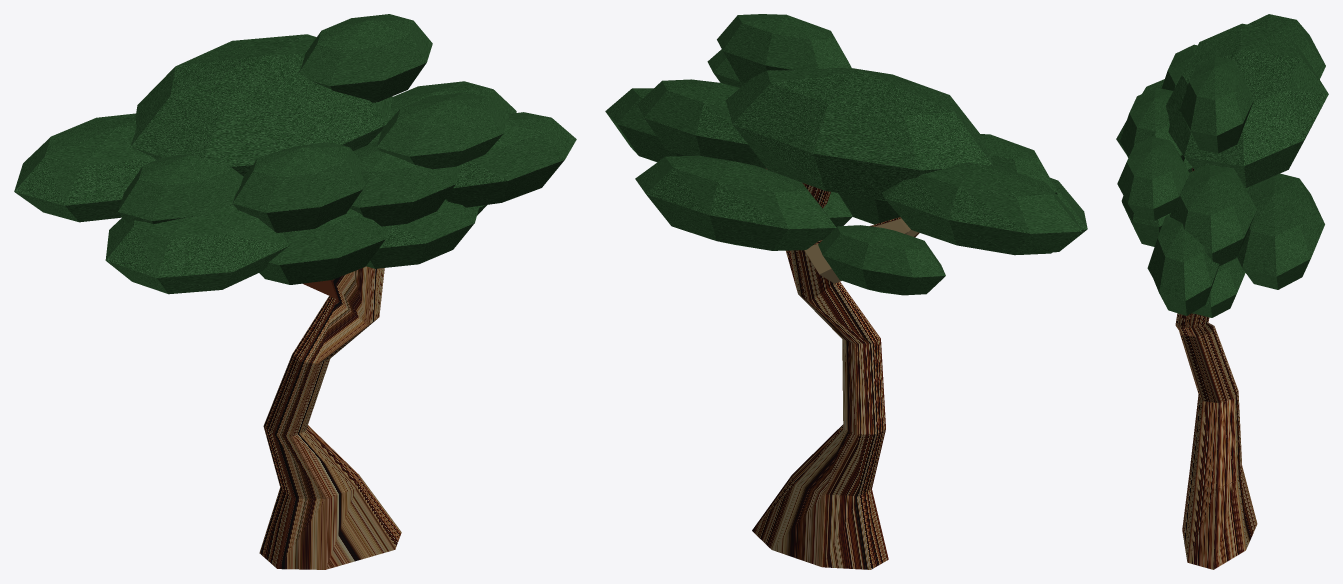
File: Tree_2.FBX
The picture shows the model from 3 angles, left to right: view 1: azimuth 30°, elevation 25°; view 2: azimuth 150°, elevation 25°; view 3: azimuth 270°, elevation 25°; orthographic projection. The views are drawn at different scales.
Parts seen in each view (by area): view 1: Cylinder003; view 2: Cylinder003; view 3: Cylinder003.
Part boxes in pixels (left/top/right/bottom): Cylinder003: left=14, top=14, right=576, bottom=569; Cylinder003: left=605, top=14, right=1087, bottom=569; Cylinder003: left=1116, top=14, right=1328, bottom=569.
Size of the model in its own units: 58.72 by 56.65 by 22.34.
